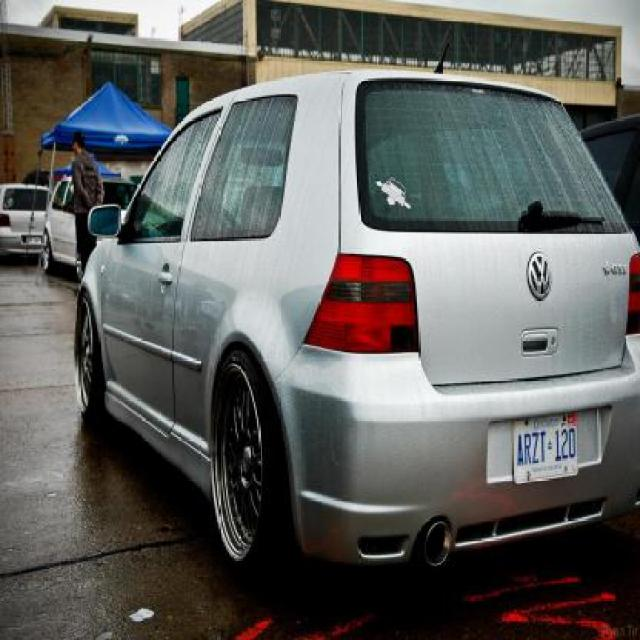License-Plates: (513, 413, 578, 483)
